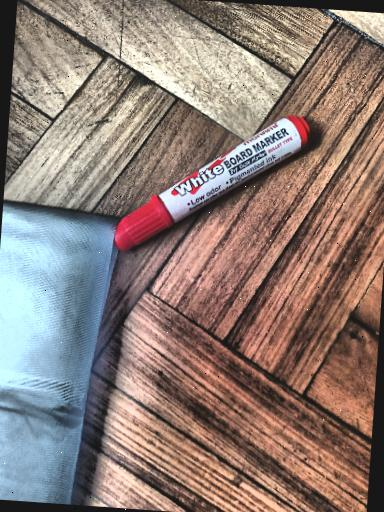marcador rojo: (114, 115, 310, 250)
